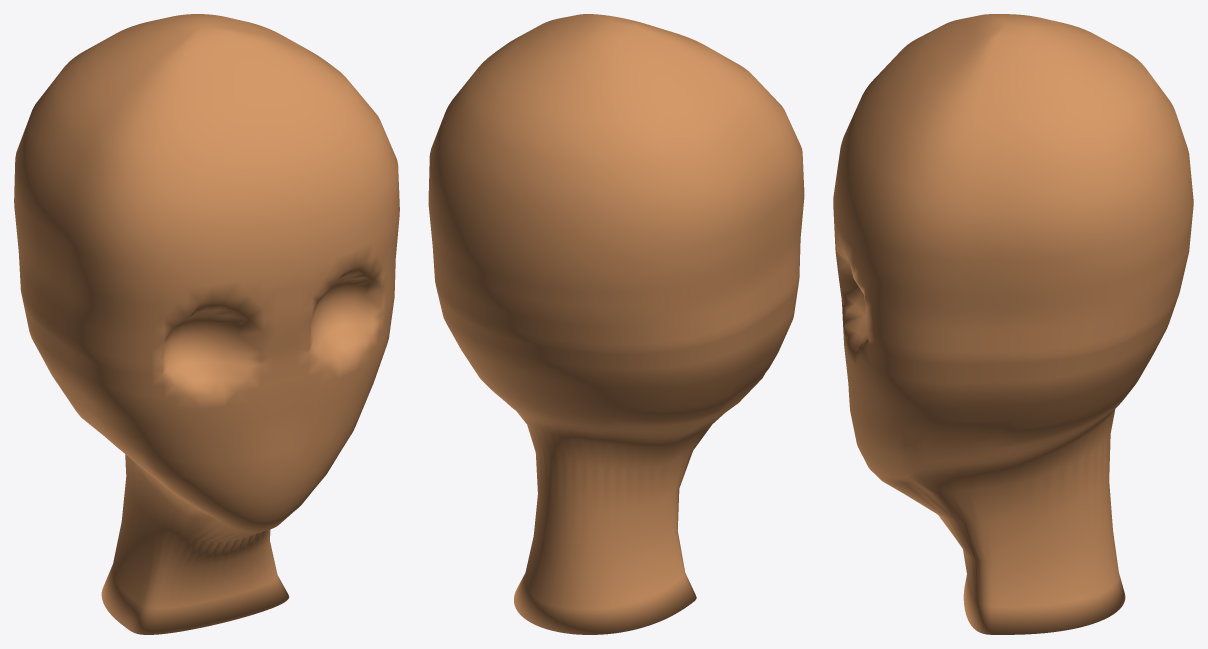
The model's file is base-feminina-01.glb.
The picture shows the model from 3 angles, left to right: view 1: azimuth 30°, elevation 25°; view 2: azimuth 150°, elevation 25°; view 3: azimuth 270°, elevation 25°; orthographic projection. The views are drawn at different scales.
Parts seen in each view (by area): view 1: Base_Feminina_01; view 2: Base_Feminina_01; view 3: Base_Feminina_01.
Boxes of the visible parts, bbox=[...] form: Base_Feminina_01: bbox=[14, 14, 399, 634]; Base_Feminina_01: bbox=[428, 14, 804, 634]; Base_Feminina_01: bbox=[833, 14, 1193, 634].
Bounding box in the file's own units: 0.174 × 0.305 × 0.174.
